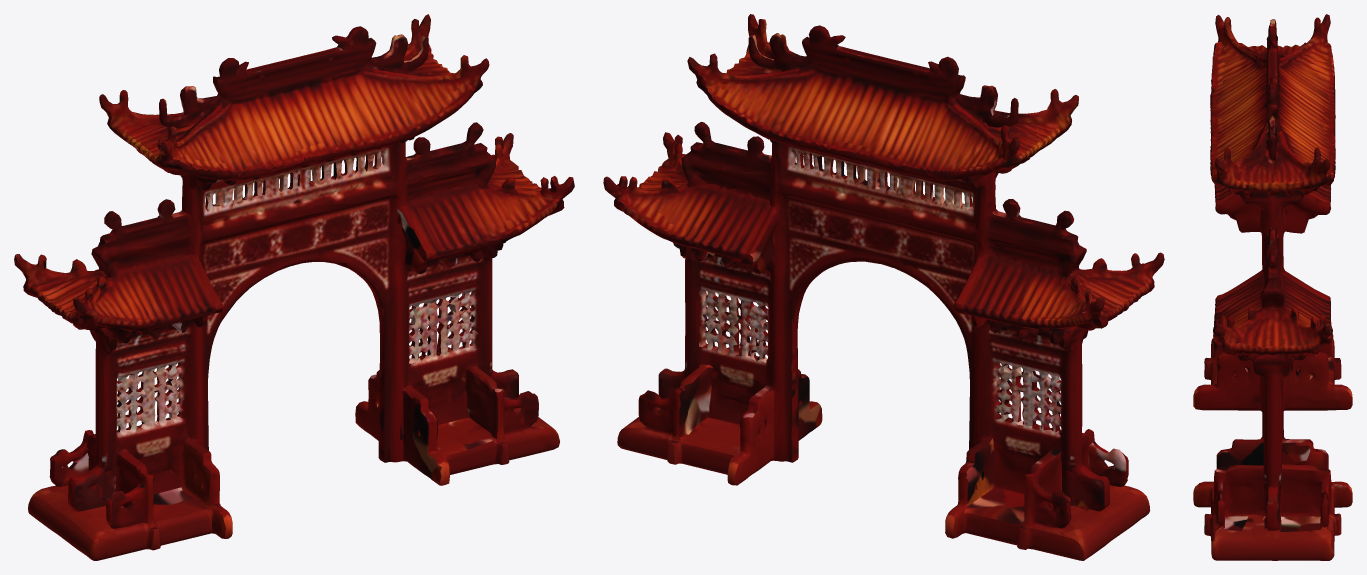
The model's file is chinese_gate.glb.
3 views of the same model, side by side, from view 1: azimuth 30°, elevation 25°; view 2: azimuth 150°, elevation 25°; view 3: azimuth 270°, elevation 25° (orthographic). The views are drawn at different scales.
Parts seen in each view (by area): view 1: tmpbizv6x3q.ply_1; view 2: tmpbizv6x3q.ply_1; view 3: tmpbizv6x3q.ply_1.
Part boxes in pixels (x1,y1,x2,y2): tmpbizv6x3q.ply_1: [14, 14, 574, 560]; tmpbizv6x3q.ply_1: [603, 14, 1164, 560]; tmpbizv6x3q.ply_1: [1193, 14, 1352, 560].
Bounding box in the file's own units: 1.99 × 1.68 × 0.6025.
1 material, 1 textured.
